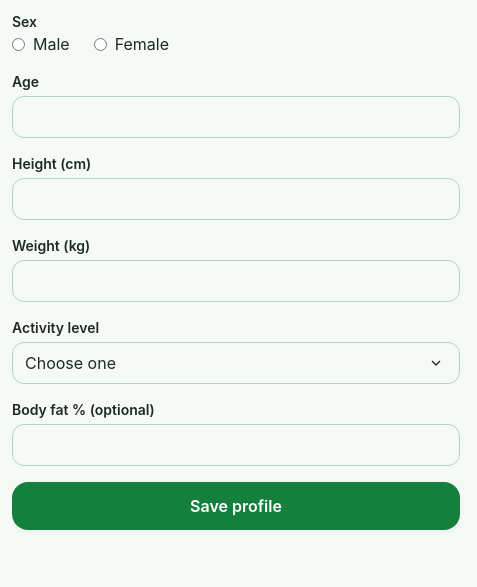
Test: ProfileForm › shows an error and enables Save again when the save fails
The width and height of the screenshot is (477, 587).
Click the radio button labelled "Male". click: coordinates (18, 44)
box: x1=12 y1=38 x2=25 y2=50
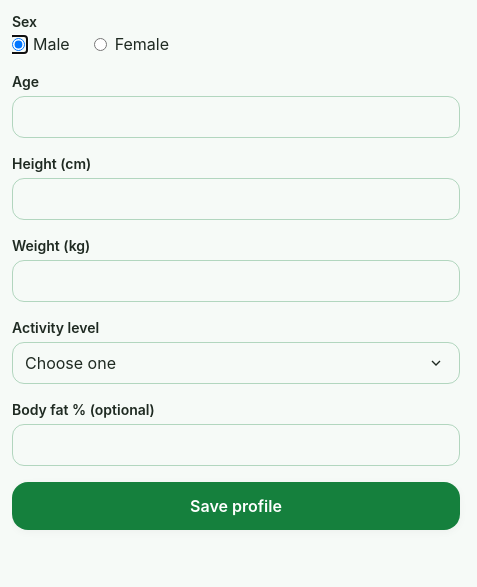
Type "30" into the number field labelled "Age". click: coordinates (236, 117)
box: x1=12 y1=96 x2=460 y2=138
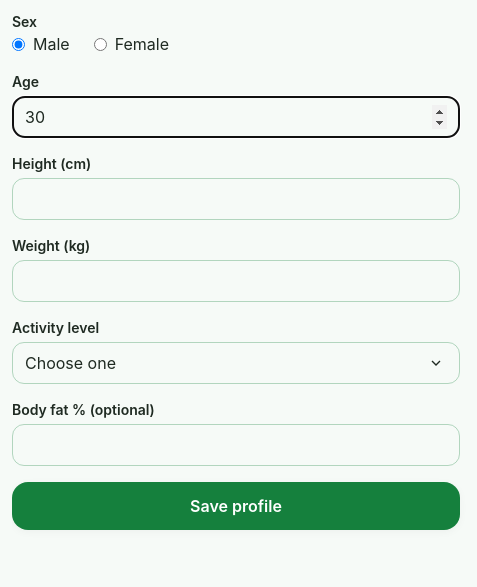
Type "175" into the number field labelled "Height (cm)". click: coordinates (236, 199)
box: x1=12 y1=178 x2=460 y2=220
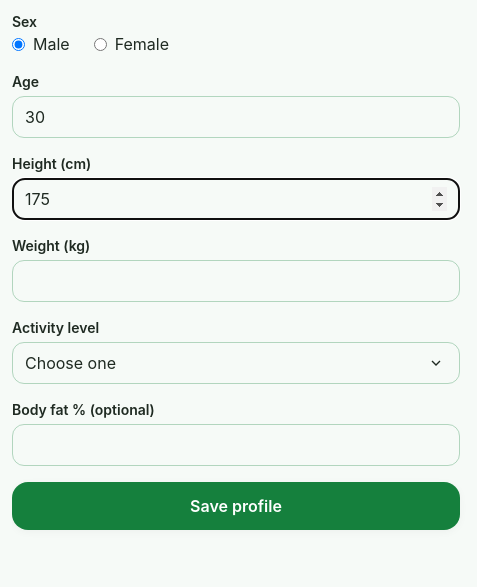
Type "80" into the number field labelled "Weight (kg)". click: coordinates (236, 281)
box: x1=12 y1=260 x2=460 y2=302
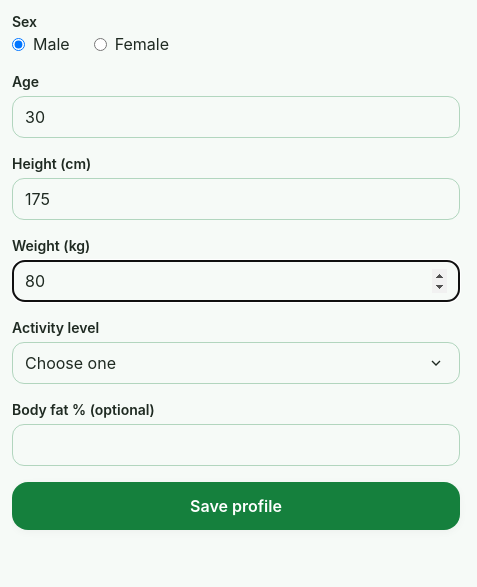
Select "Moderate" in the dropdown labelled "Activity level". click: coordinates (236, 363)
box: x1=12 y1=342 x2=460 y2=384
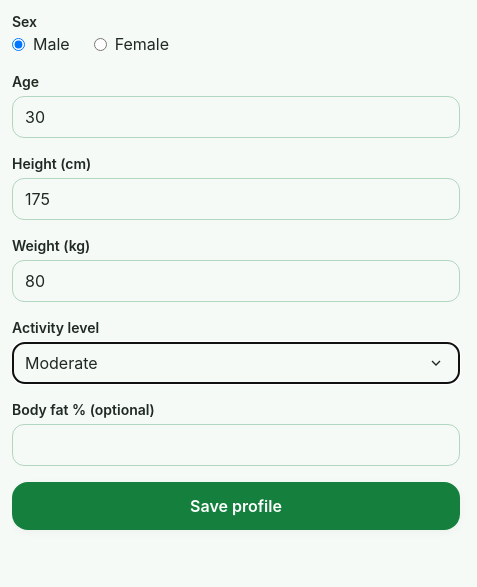
Click the button "Save profile". click: coordinates (236, 506)
box: x1=12 y1=482 x2=460 y2=530
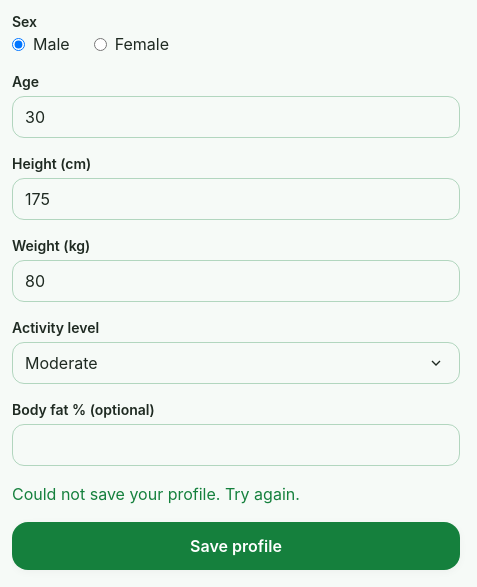
Expected: the button "Save profile" is enabled, x1=12 y1=522 x2=460 y2=570
Expected: the message reads "Could not save your profile. Try again.", x1=12 y1=484 x2=300 y2=504
